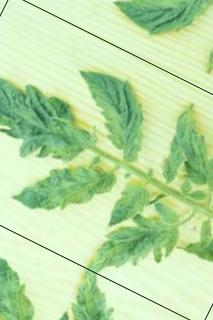Tomato leaf mosaic virus: (0, 57, 108, 175), (54, 61, 165, 166), (87, 184, 190, 295), (155, 100, 213, 200), (104, 175, 155, 236)
